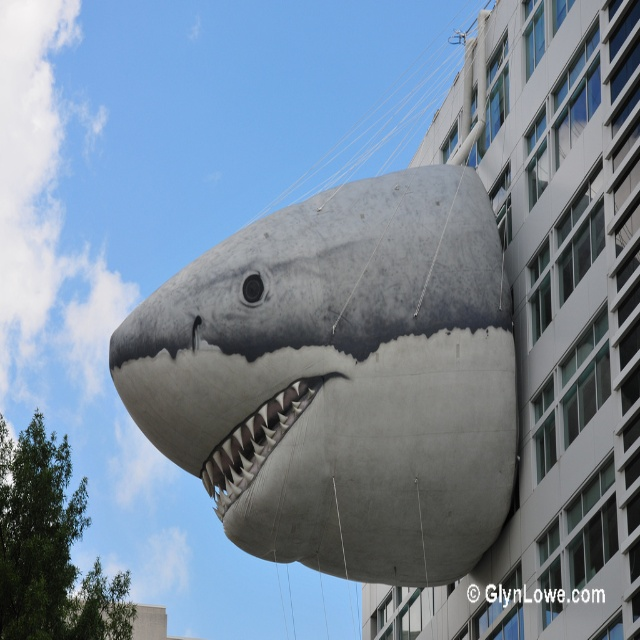Shark: (109, 153, 523, 589)
